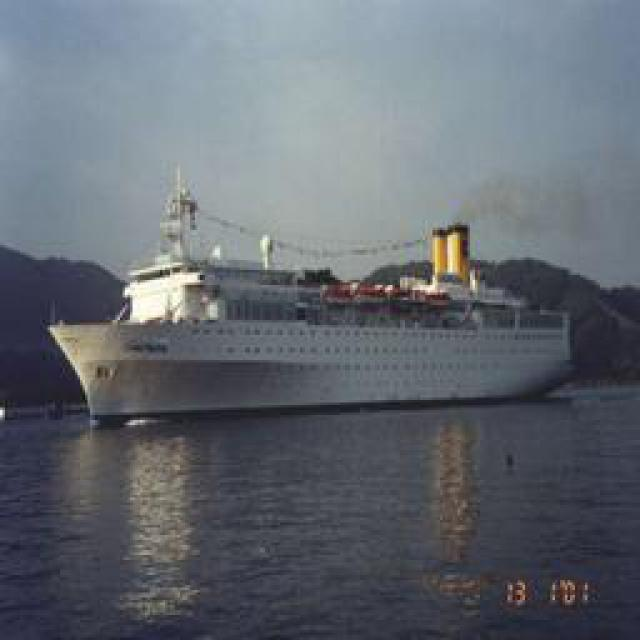Ship: (30, 167, 595, 431)
